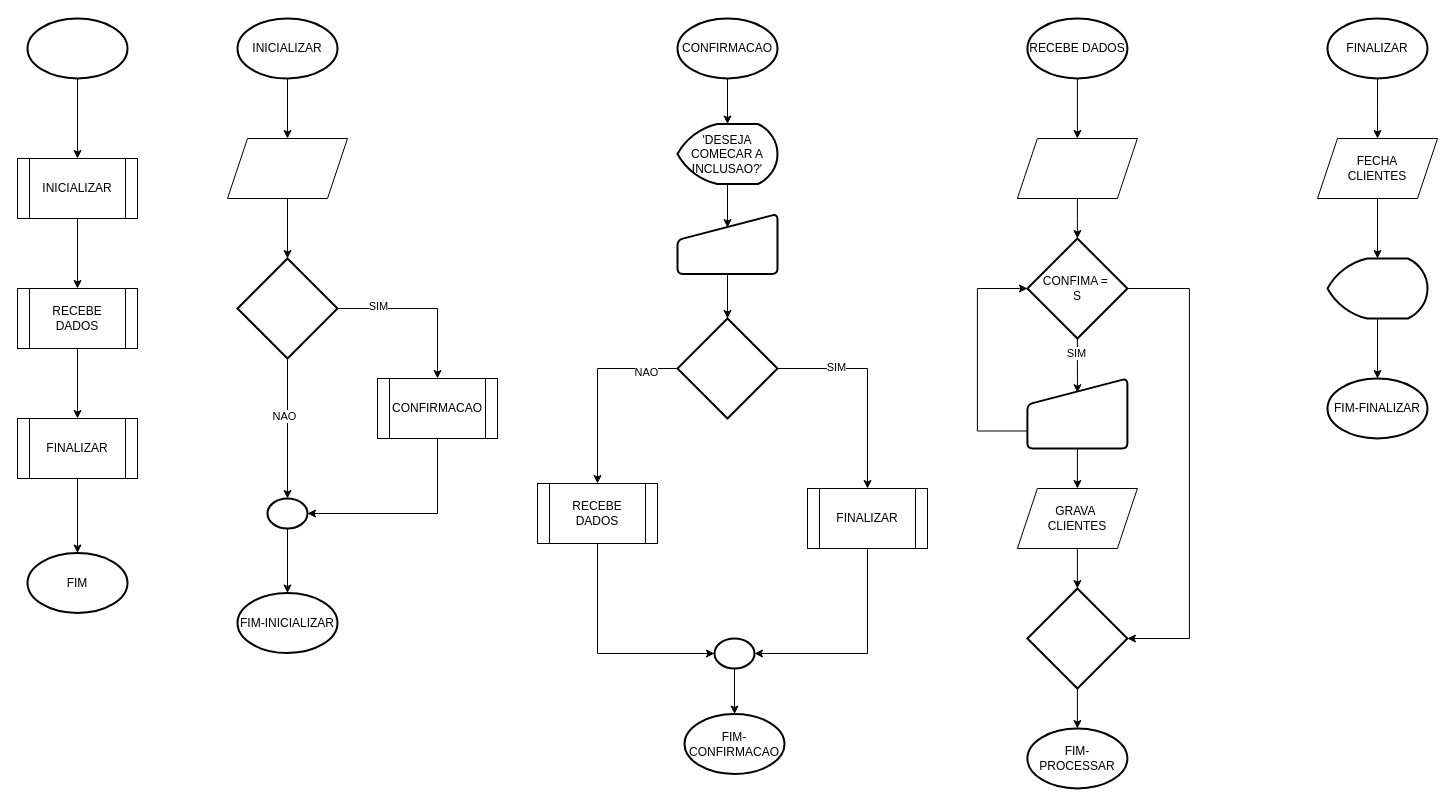
Image size: 1455x806. Some labels were removed from this diagram. Each missing label, with the centre of its shape:
ABRIR CLIENTES: point (287, 168)
CLIENTES EXISTE: point (287, 308)
CONFIRMA: point (727, 243)
CONFIRMA = 'N': point (727, 368)
CONFIRMA = S: point (1076, 168)
EOF: point (1077, 638)
FIM DA INCLUSAO: point (1377, 288)
ID NOME TELEFONE: point (1077, 413)
INICIO: point (77, 48)
